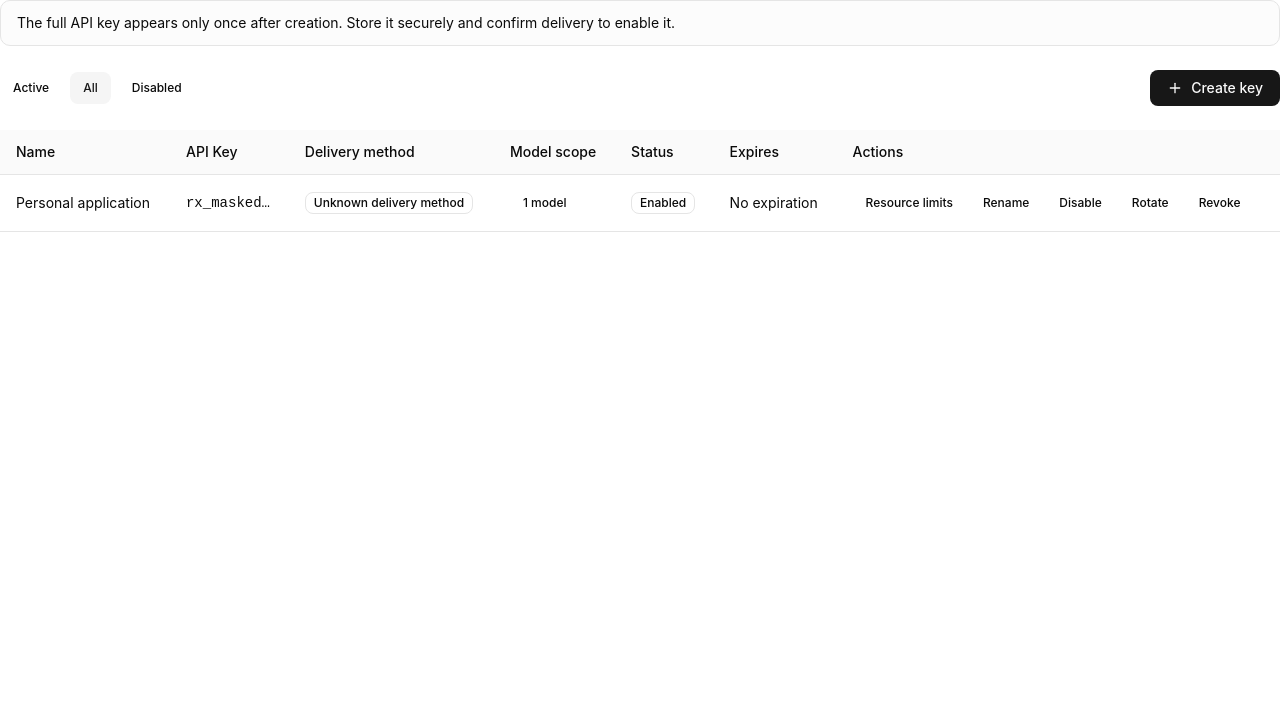
Personal Key delivery composition › retains legacy missing delivery mode as Unknown and preserves supported manual rotation without claiming managed eligibility
Step 1. Click the button "Rotate" → (1150, 203), box [1119,187,1182,219]
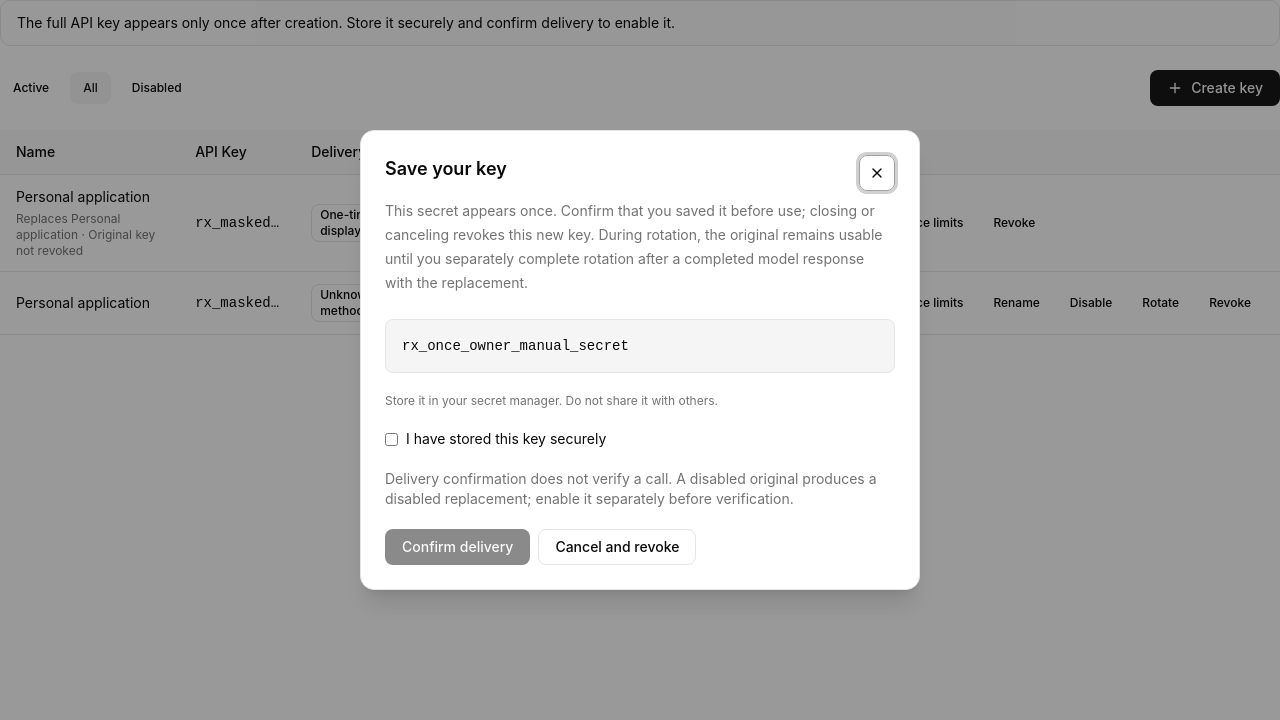
Expected: the text "rx_once_owner_manual_secret" is shown, [385,319,895,373]
